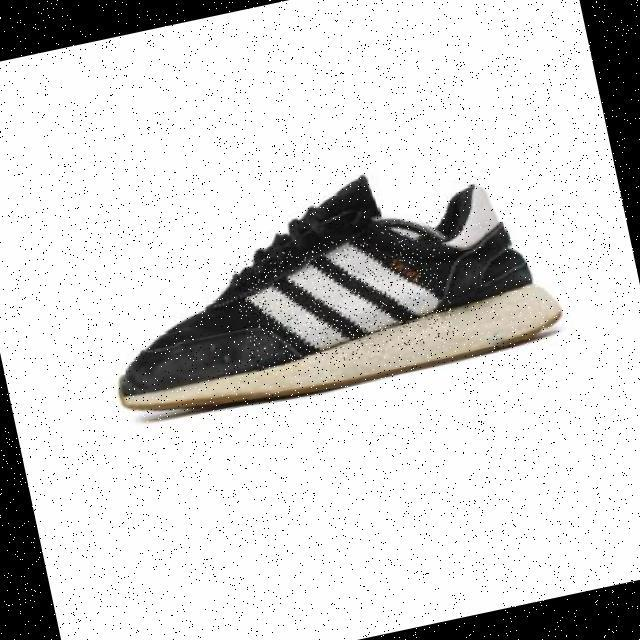Adidas: (230, 219, 459, 380)
